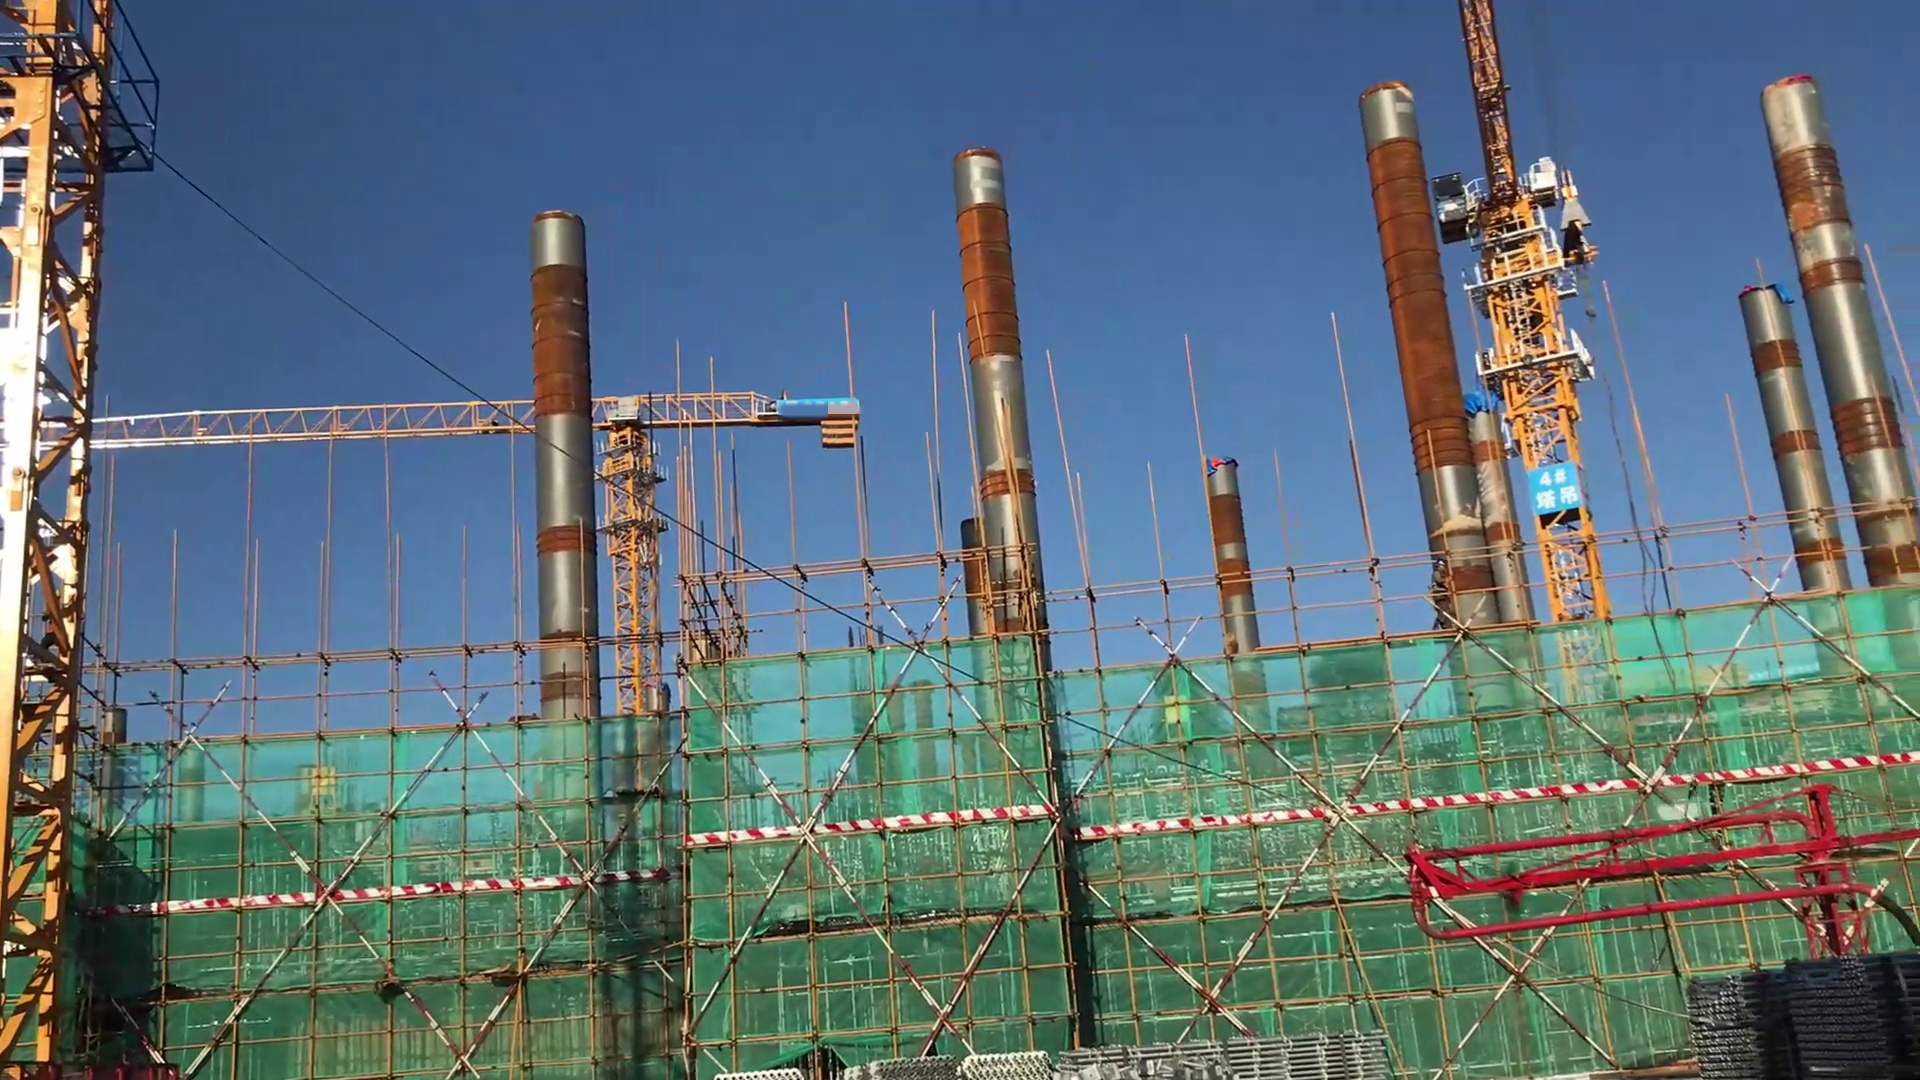hook: (1534, 164, 1623, 262)
scaffold: (1691, 964, 1919, 1080), (997, 1029, 1400, 1080)
